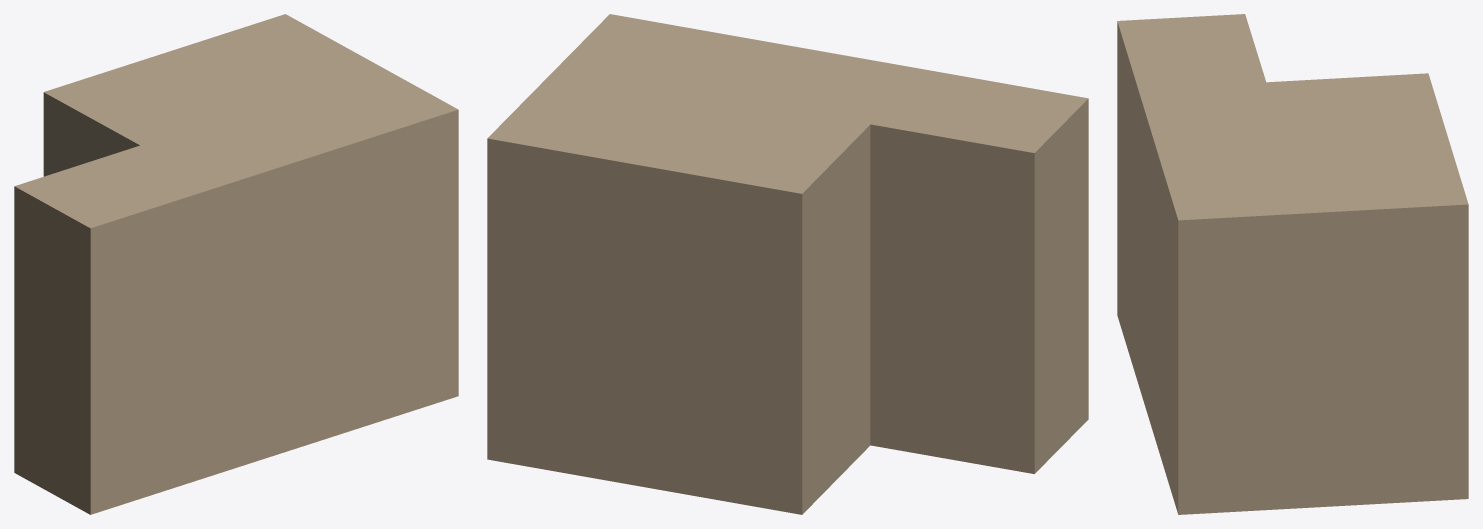
Rendered from bld_100469738.dae.
3 renders of one model, left to right at view 1: azimuth 30°, elevation 25°; view 2: azimuth 150°, elevation 25°; view 3: azimuth 270°, elevation 25°, orthographic. The views are drawn at different scales.
Visible parts, largest first — view 1: bld_100469738; view 2: bld_100469738; view 3: bld_100469738.
Boxes of the visible parts, bbox=[...] form: bld_100469738: bbox=[14, 14, 458, 514]; bld_100469738: bbox=[487, 14, 1088, 514]; bld_100469738: bbox=[1117, 14, 1468, 514].
Size of the model in its own units: 12.03 by 8.65 by 8.
